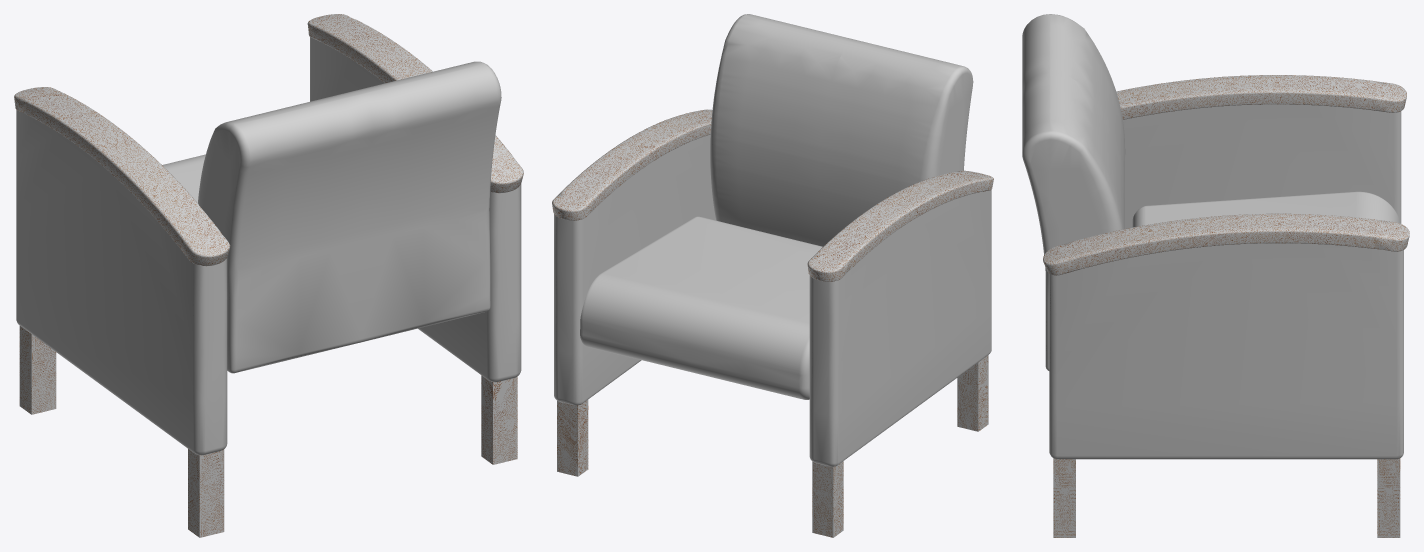
3 views of the same model, side by side, from view 1: azimuth 30°, elevation 25°; view 2: azimuth 150°, elevation 25°; view 3: azimuth 270°, elevation 25° (orthographic). The views are drawn at different scales.
Parts seen in each view (by area): view 1: mesh10_mesh10-geometry, mesh2_mesh2-geometry, mesh1_mesh1-geometry, mesh4_mesh4-geometry, mesh9_mesh9-geometry, mesh3_mesh3-geometry, mesh5_mesh5-geometry, mesh11_mesh11-geometry, mesh12_mesh12-geometry, mesh7_mesh7-geometry; view 2: mesh10_mesh10-geometry, mesh1_mesh1-geometry, mesh2_mesh2-geometry, mesh8_mesh8-geometry, mesh4_mesh4-geometry, mesh7_mesh7-geometry, mesh9_mesh9-geometry, mesh3_mesh3-geometry, mesh6_mesh6-geometry, mesh12_mesh12-geometry, mesh11_mesh11-geometry; view 3: mesh4_mesh4-geometry, mesh10_mesh10-geometry, mesh1_mesh1-geometry, mesh3_mesh3-geometry, mesh9_mesh9-geometry, mesh2_mesh2-geometry, mesh7_mesh7-geometry, mesh6_mesh6-geometry, mesh5_mesh5-geometry.
Boxes of the visible parts, x1=… form: mesh10_mesh10-geometry: x1=16, y1=110, x2=227, y2=455; mesh2_mesh2-geometry: x1=198, y1=92, x2=373, y2=373; mesh1_mesh1-geometry: x1=351, y1=61, x2=501, y2=342; mesh4_mesh4-geometry: x1=310, y1=37, x2=521, y2=382; mesh9_mesh9-geometry: x1=14, y1=87, x2=230, y2=266; mesh3_mesh3-geometry: x1=307, y1=14, x2=523, y2=193; mesh5_mesh5-geometry: x1=481, y1=375, x2=517, y2=464; mesh11_mesh11-geometry: x1=188, y1=449, x2=224, y2=537; mesh12_mesh12-geometry: x1=19, y1=326, x2=56, y2=414; mesh7_mesh7-geometry: x1=162, y1=157, x2=203, y2=202; mesh10_mesh10-geometry: x1=809, y1=190, x2=991, y2=466; mesh1_mesh1-geometry: x1=710, y1=14, x2=856, y2=246; mesh2_mesh2-geometry: x1=818, y1=40, x2=973, y2=245; mesh8_mesh8-geometry: x1=580, y1=216, x2=806, y2=372; mesh4_mesh4-geometry: x1=554, y1=134, x2=716, y2=405; mesh7_mesh7-geometry: x1=691, y1=243, x2=822, y2=399; mesh9_mesh9-geometry: x1=807, y1=170, x2=993, y2=281; mesh3_mesh3-geometry: x1=552, y1=109, x2=712, y2=220; mesh6_mesh6-geometry: x1=557, y1=399, x2=588, y2=476; mesh12_mesh12-geometry: x1=812, y1=461, x2=843, y2=537; mesh11_mesh11-geometry: x1=957, y1=355, x2=988, y2=431; mesh4_mesh4-geometry: x1=1049, y1=243, x2=1403, y2=459; mesh10_mesh10-geometry: x1=1123, y1=104, x2=1401, y2=228; mesh1_mesh1-geometry: x1=1022, y1=72, x2=1124, y2=370; mesh3_mesh3-geometry: x1=1043, y1=213, x2=1409, y2=275; mesh9_mesh9-geometry: x1=1116, y1=75, x2=1406, y2=119; mesh2_mesh2-geometry: x1=1022, y1=14, x2=1125, y2=193; mesh7_mesh7-geometry: x1=1132, y1=191, x2=1400, y2=227; mesh6_mesh6-geometry: x1=1377, y1=458, x2=1400, y2=537; mesh5_mesh5-geometry: x1=1053, y1=458, x2=1075, y2=537.
Bounding box in the file's own units: 0.5393 × 0.6258 × 0.5636.
